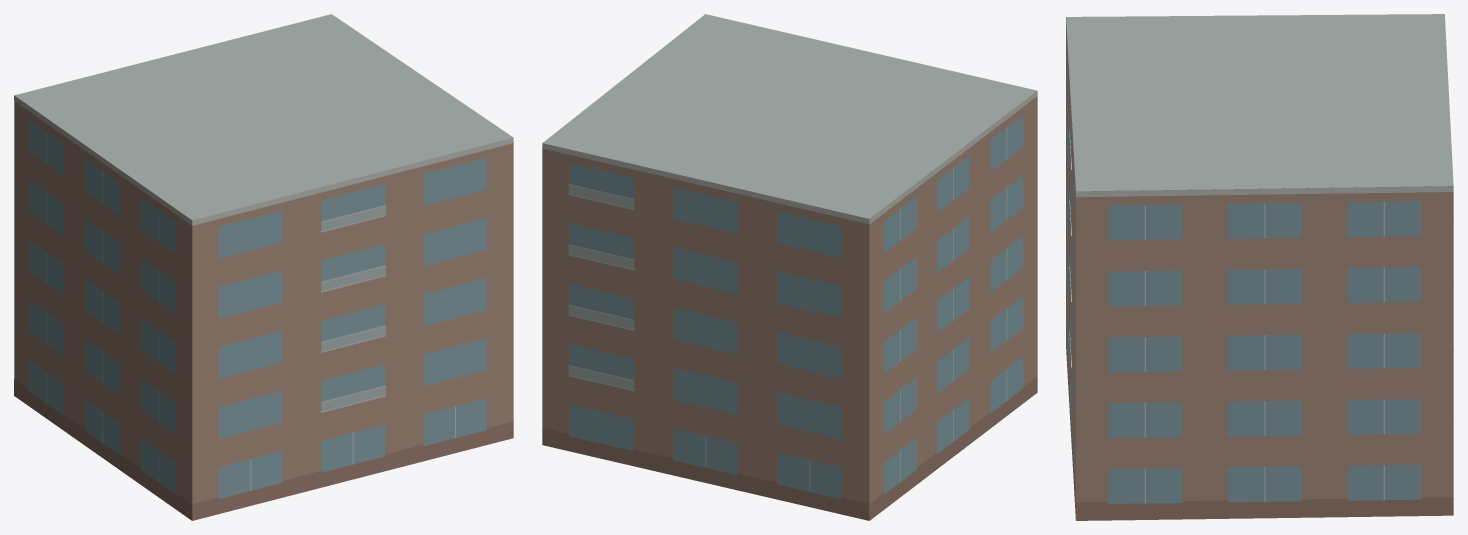
File: survey-upis-32889559.glb
The picture shows the model from 3 angles, left to right: view 1: azimuth 30°, elevation 25°; view 2: azimuth 150°, elevation 25°; view 3: azimuth 270°, elevation 25°; orthographic projection. The views are drawn at different scales.
Visible parts, largest first — view 1: survey-upis-32889559.tmp; view 2: survey-upis-32889559.tmp; view 3: survey-upis-32889559.tmp.
Boxes of the visible parts, box(x1,y1,x2,y2) form: survey-upis-32889559.tmp: box(14, 14, 513, 520); survey-upis-32889559.tmp: box(542, 14, 1037, 520); survey-upis-32889559.tmp: box(1066, 14, 1453, 520).
Bounding box in the file's own units: 15.71 × 13.6 × 14.51.
